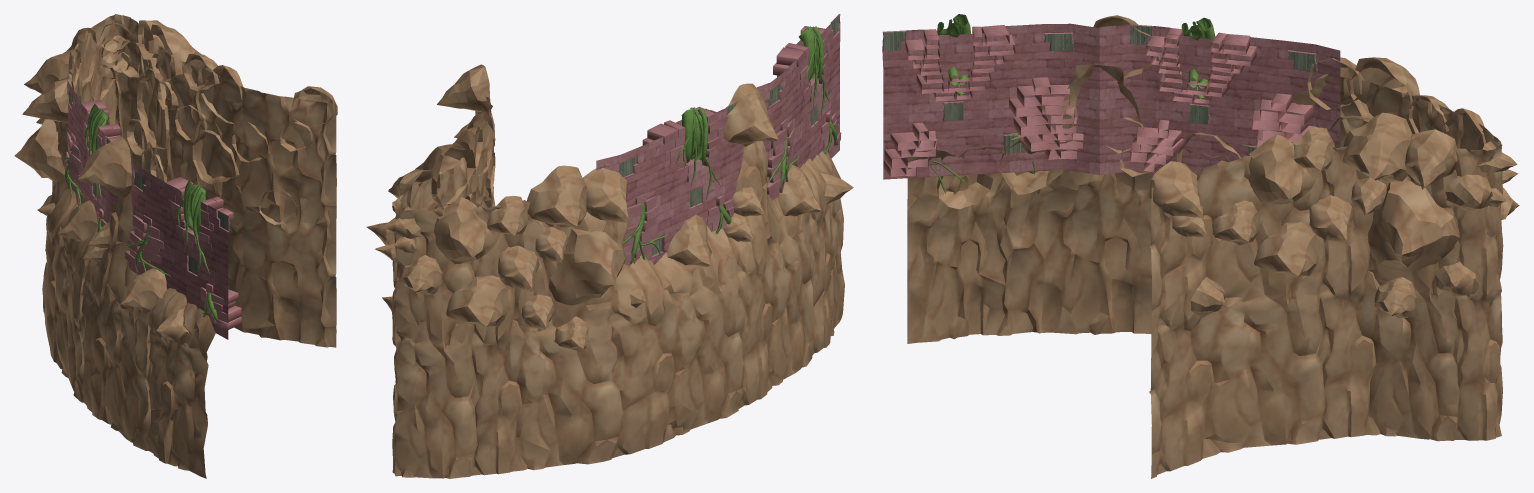
Rendered from SM_ENV_KNFRST_Cliff_Gc.FBX.
The picture shows the model from 3 angles, left to right: view 1: azimuth 30°, elevation 25°; view 2: azimuth 150°, elevation 25°; view 3: azimuth 270°, elevation 25°; orthographic projection. The views are drawn at different scales.
Parts seen in each view (by area): view 1: SM_ENV_KNFRST_Cliff_Gc; view 2: SM_ENV_KNFRST_Cliff_Gc; view 3: SM_ENV_KNFRST_Cliff_Gc.
Boxes of the visible parts, box(x1,y1,x2,y2) form: SM_ENV_KNFRST_Cliff_Gc: box(14, 14, 337, 478); SM_ENV_KNFRST_Cliff_Gc: box(366, 14, 853, 478); SM_ENV_KNFRST_Cliff_Gc: box(882, 14, 1519, 478).
Bounding box in the file's own units: 3672 × 3486 × 6035.
